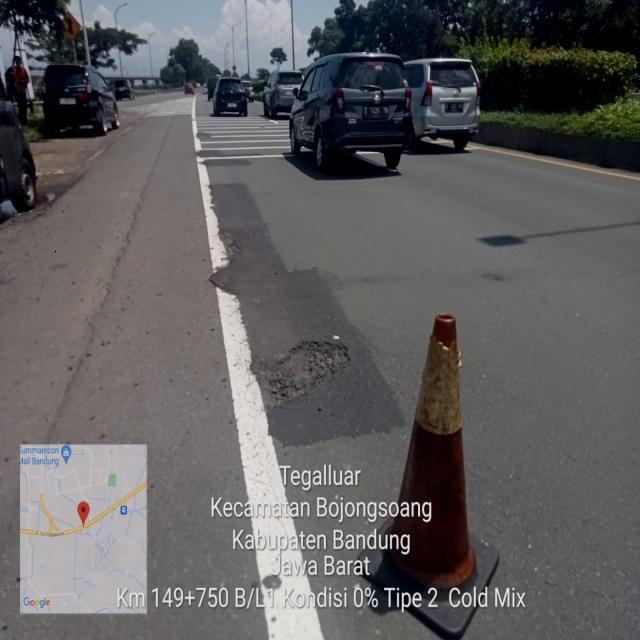Buraco: (248, 338, 354, 412)
